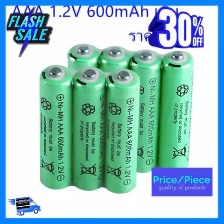battery: (156, 48, 197, 179), (36, 61, 76, 193), (101, 67, 141, 196), (66, 38, 104, 172), (93, 41, 132, 171), (126, 48, 163, 176), (71, 64, 105, 192)
